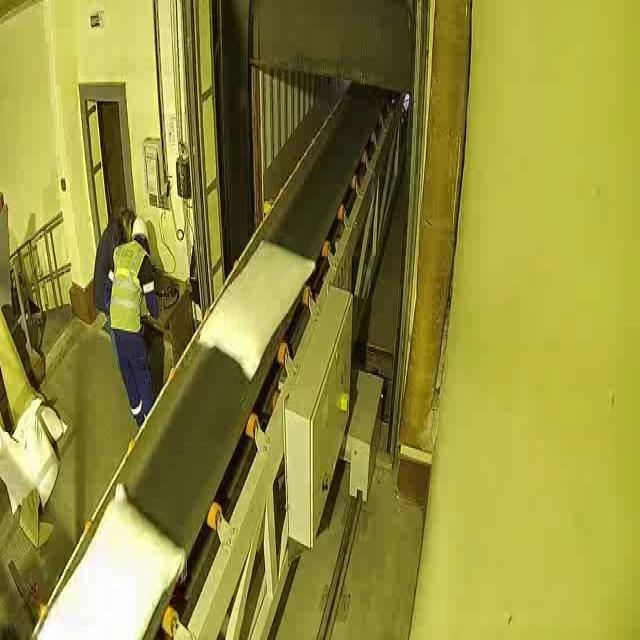bag: (35, 478, 187, 636), (196, 233, 316, 380)
